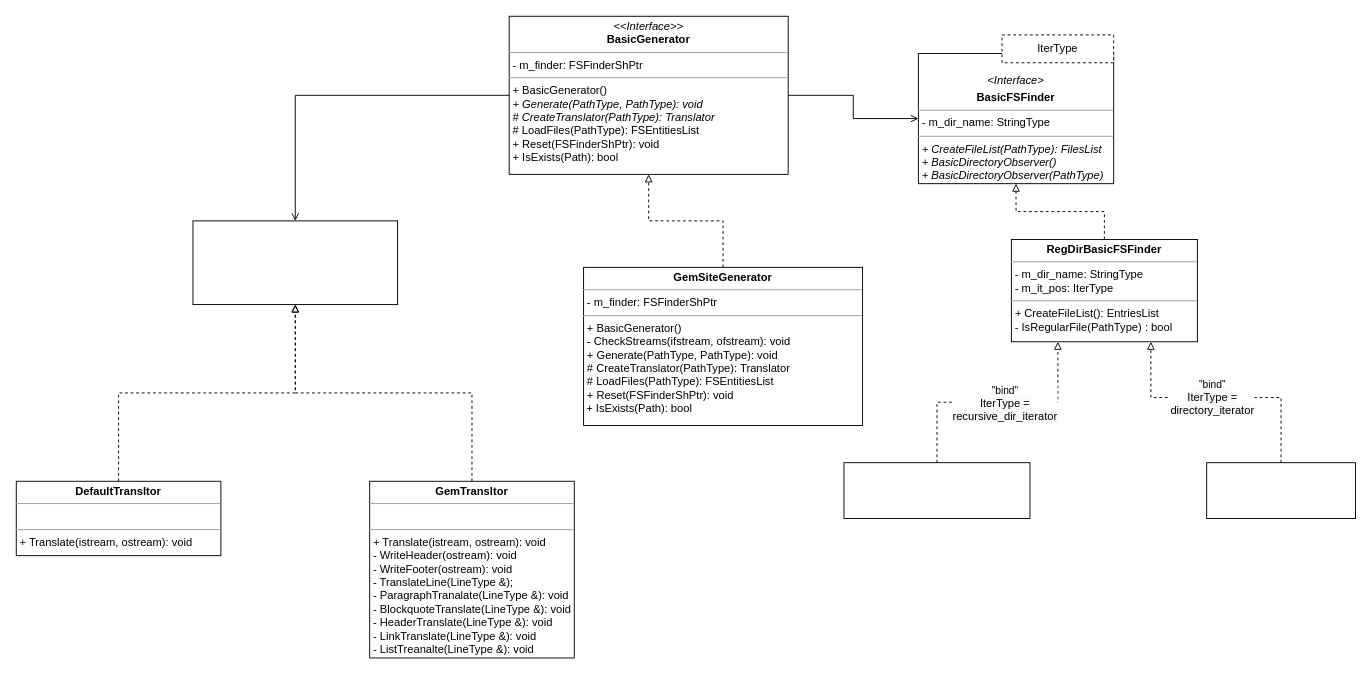
Image size: 1372x674. Some labels were removed from this diagram. Each missing label, with the centre of its shape:
"<<Interface>> BasicTraslator + Translate(istream, ostream): void" belongs at [295,262].
"RegDirFSFinderr" belongs at [1280,490].
"RRegDirFSFinder" belongs at [936,490].
